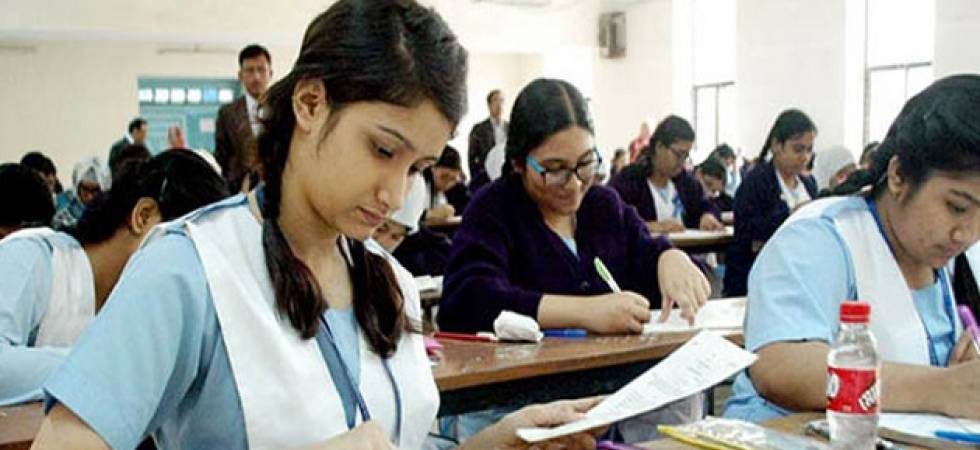student: (69, 6, 512, 436), (776, 45, 980, 425), (475, 42, 652, 314)
